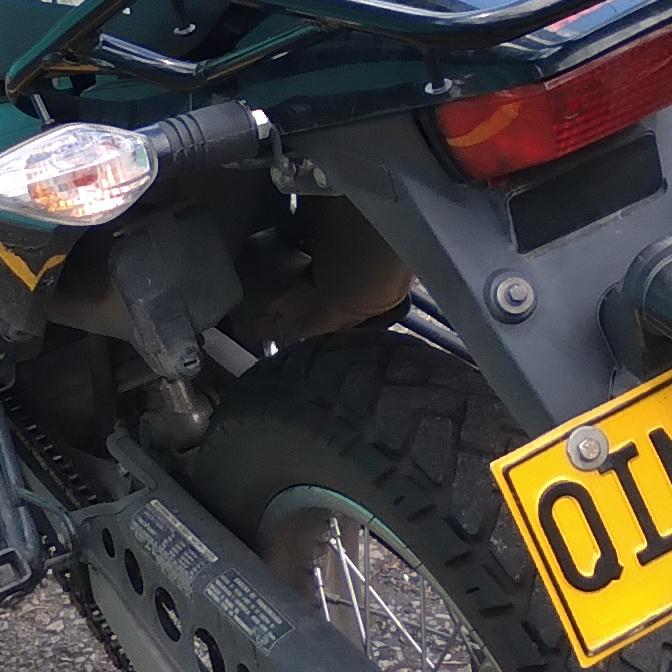plates: (491, 373, 672, 668)
